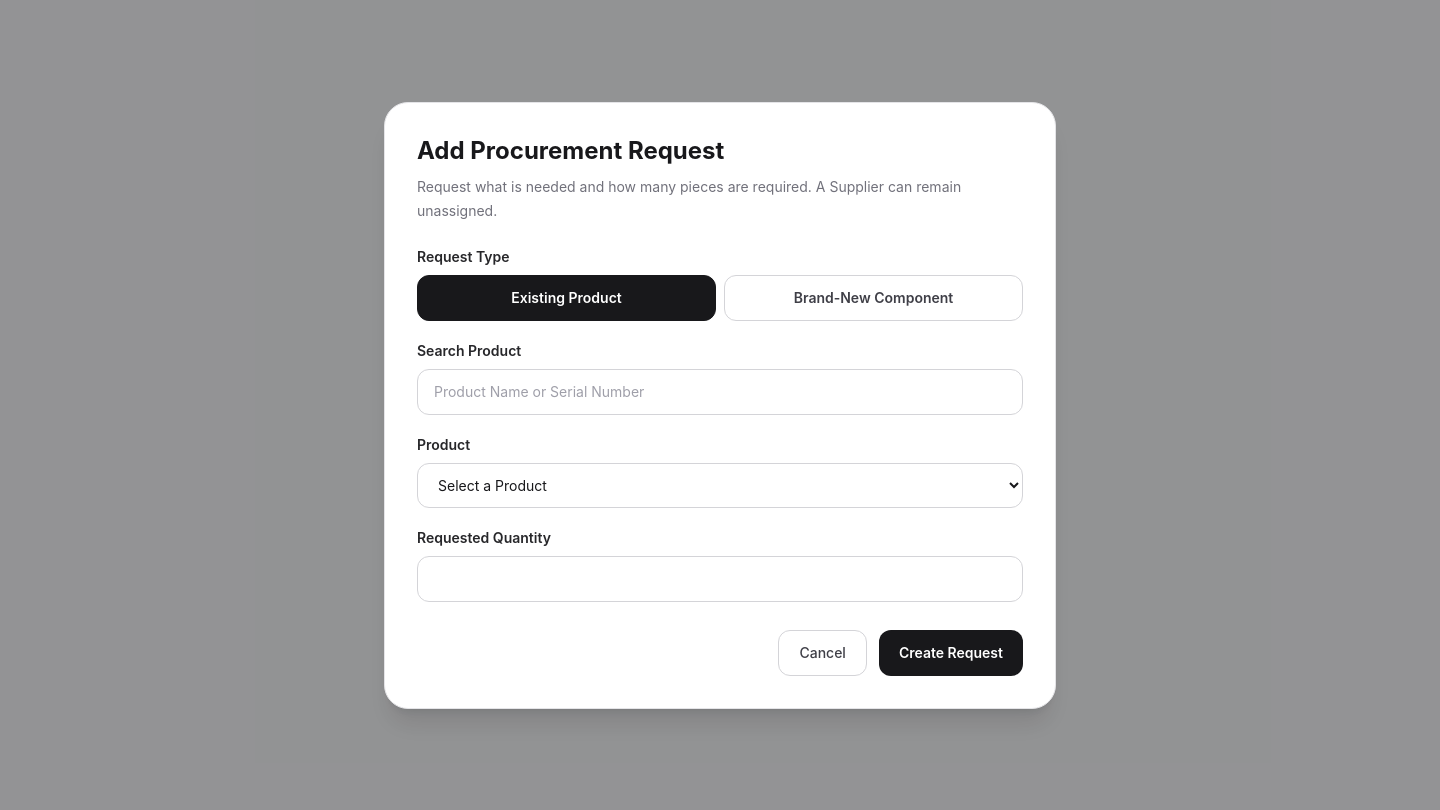
Test: CreateExistingProductRequestDialog › rejects invalid quantity 0
The width and height of the screenshot is (1440, 810).
Select "0000123 — Server Product Name" in the dropdown labelled "Product": (720, 485) [417, 462, 1023, 508]
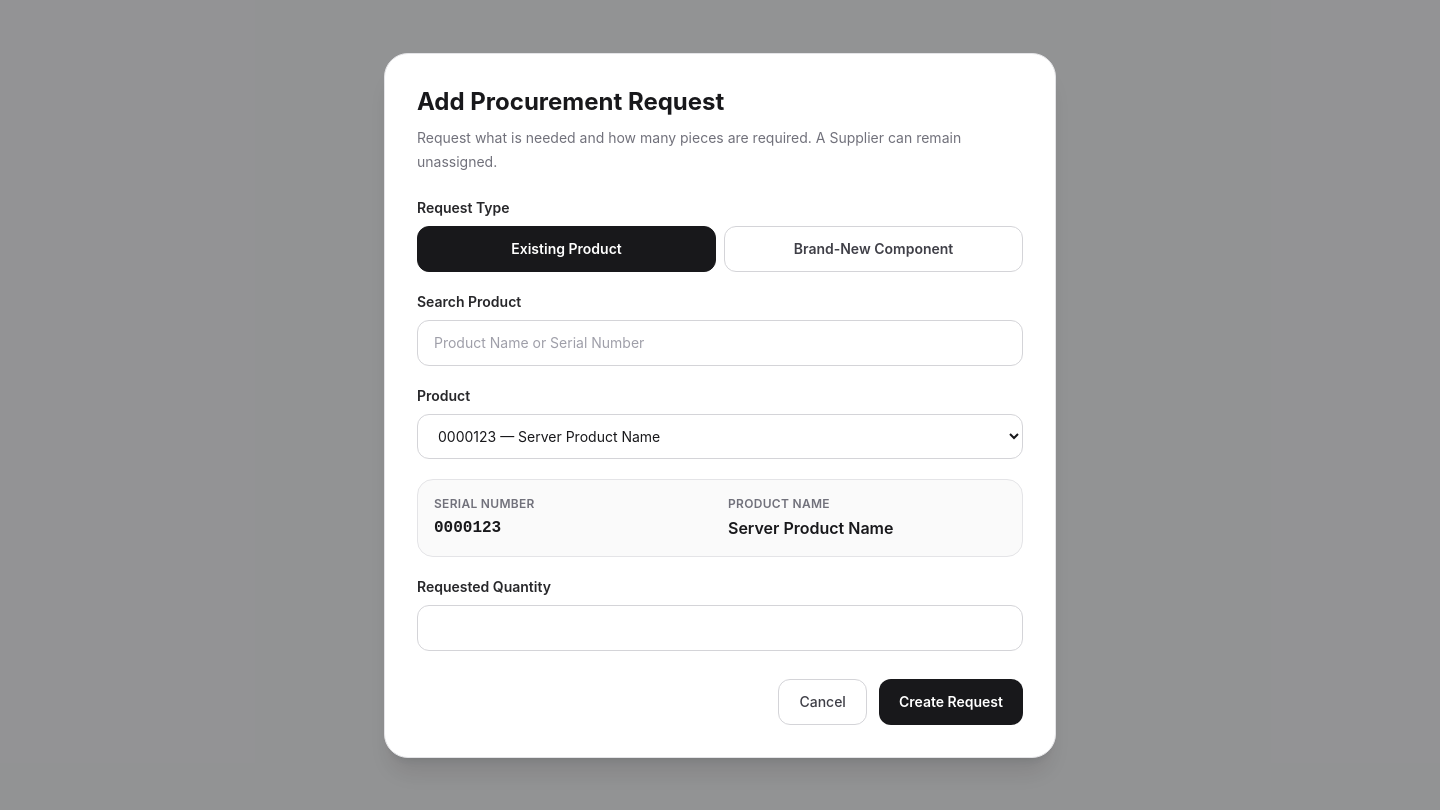
In the number field labelled "Requested Quantity": (720, 628) [417, 604, 1023, 650], type "0"
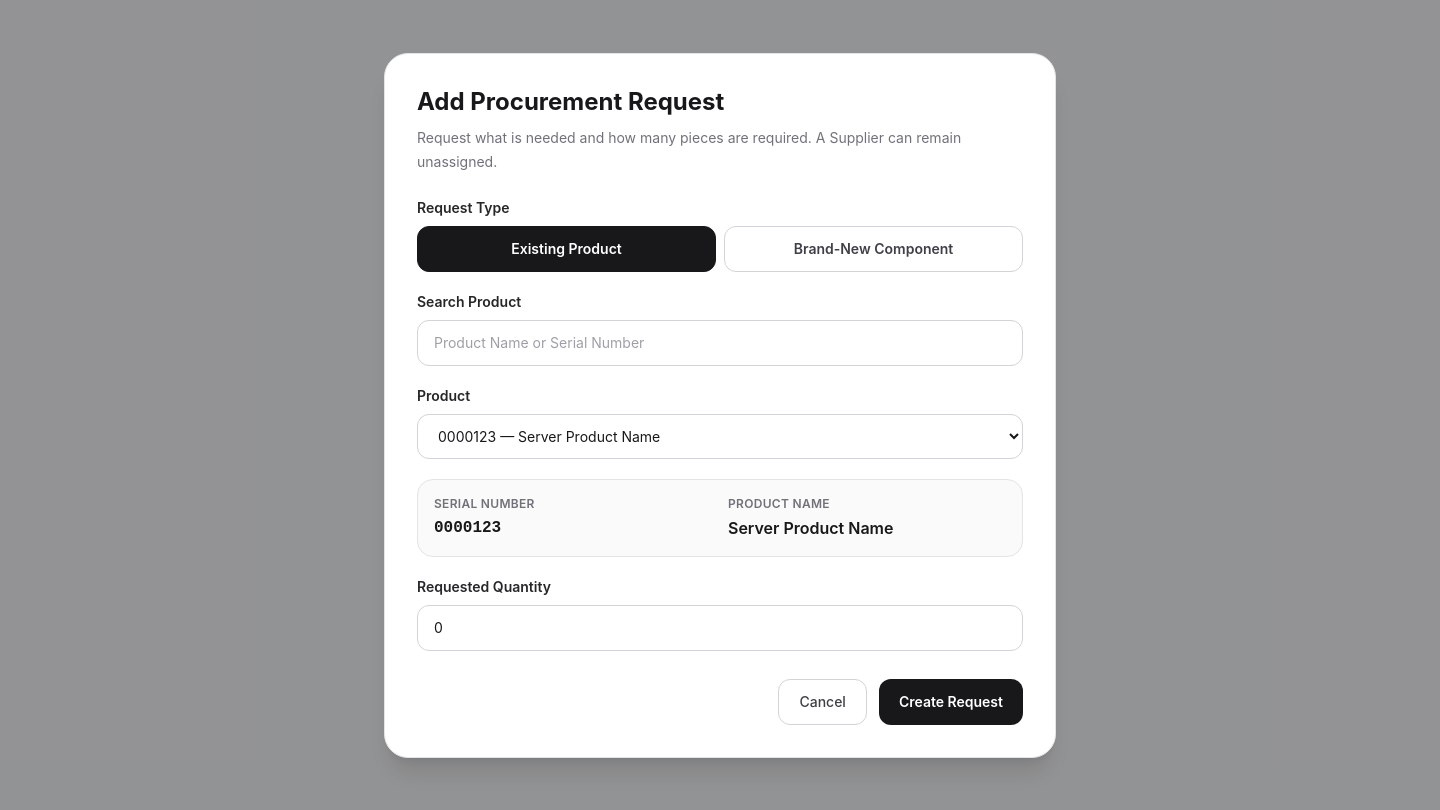
Click the button "Create Request": (951, 702) [879, 678, 1023, 724]
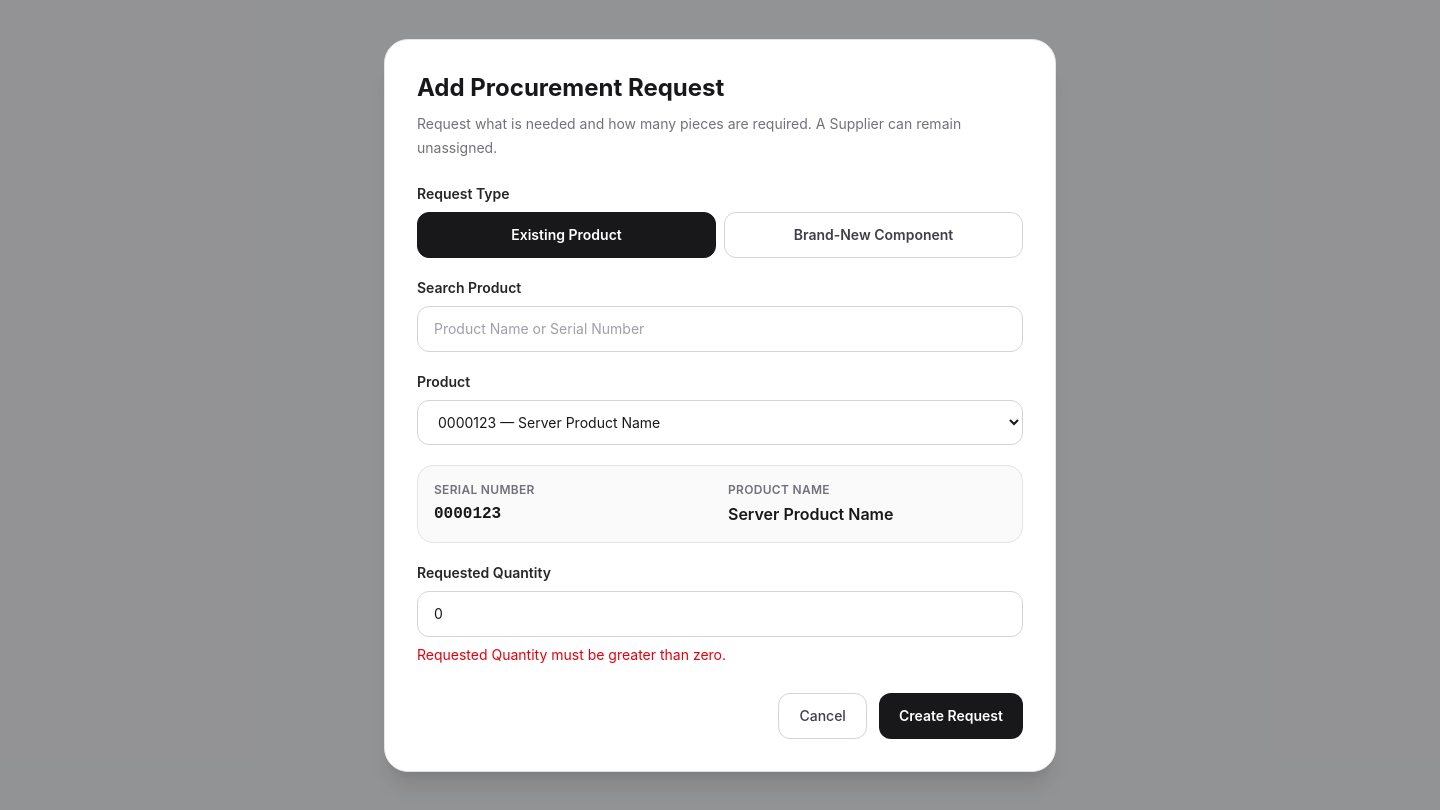
Now the text "Requested Quantity must be greater than zero." is shown, box [417, 646, 726, 662]
